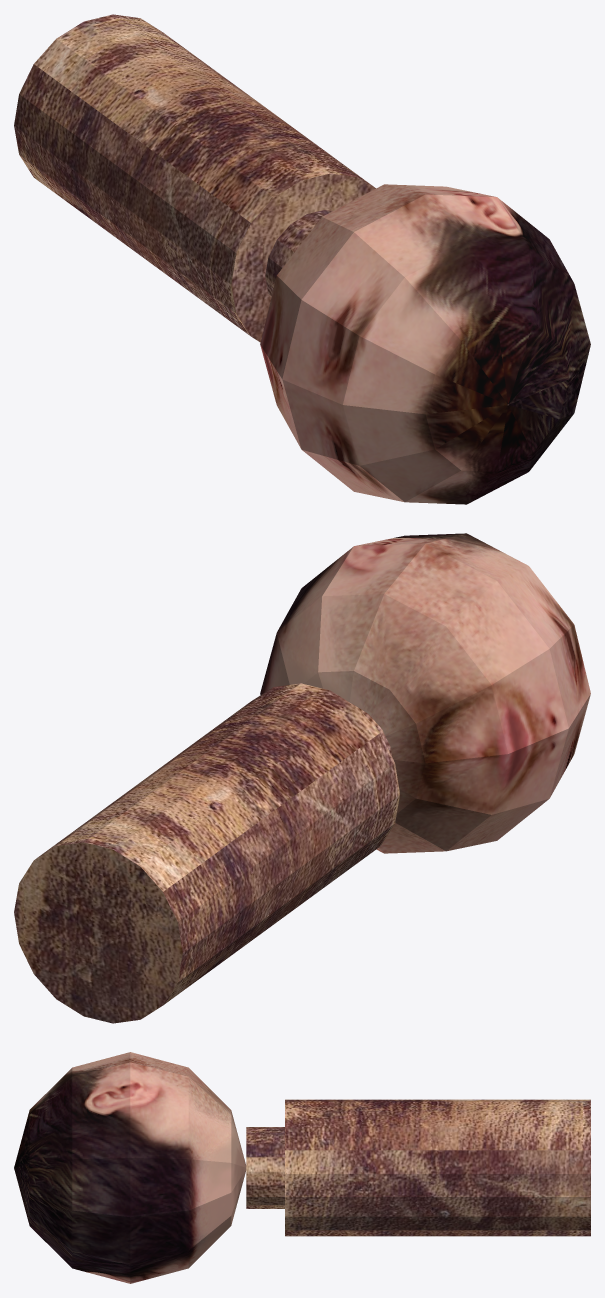
The model's file is player_body.obj.
3 views of the same model, one above another, from view 1: azimuth 30°, elevation 25°; view 2: azimuth 150°, elevation 25°; view 3: azimuth 270°, elevation 25° (orthographic). The views are drawn at different scales.
Parts seen in each view (by area): view 1: Sphere001, body; view 2: body, Sphere001; view 3: body, Sphere001.
Part boxes in pixels (x1=…): Sphere001: x1=260, y1=184, x2=590, y2=504; body: x1=14, y1=14, x2=375, y2=342; body: x1=14, y1=683, x2=399, y2=1023; Sphere001: x1=260, y1=533, x2=590, y2=853; body: x1=246, y1=1099, x2=590, y2=1236; Sphere001: x1=14, y1=1052, x2=246, y2=1283.
Size of the model in its own units: 2.81 by 2.81 by 6.97.
